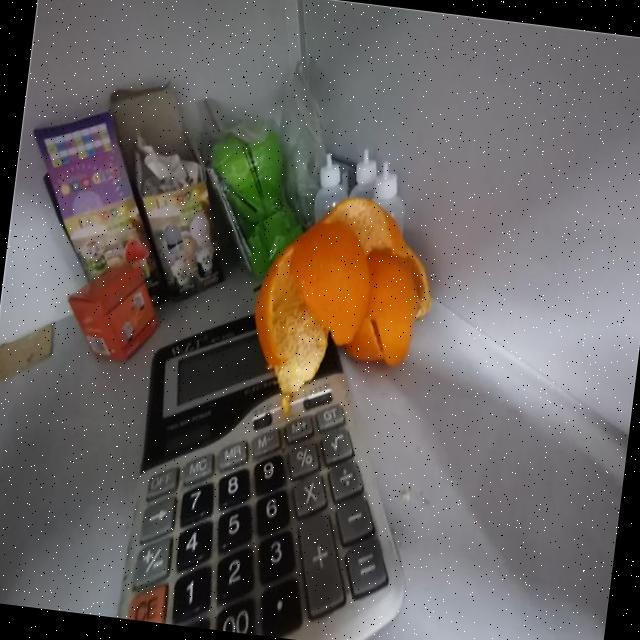orange-peel: (240, 182, 444, 422)
